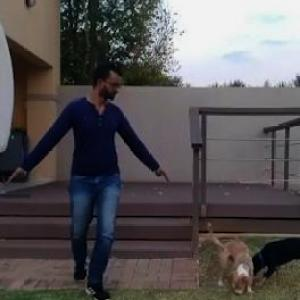land: (1, 51, 184, 299)
